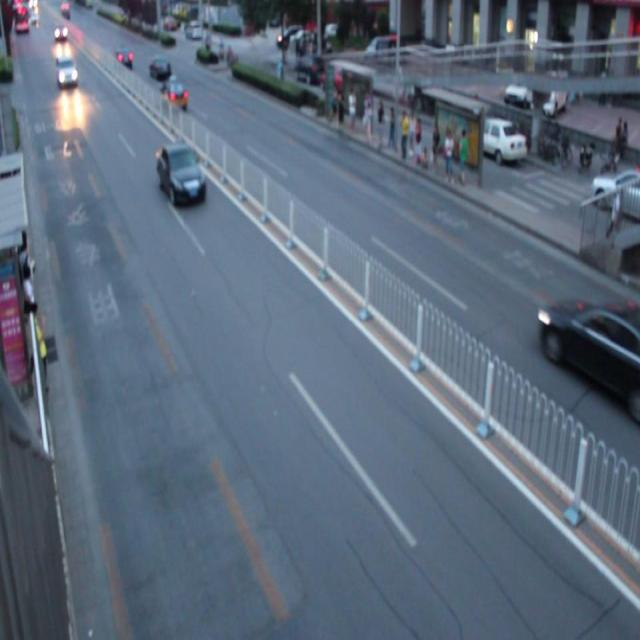car: (536, 289, 640, 418), (154, 142, 204, 206), (155, 77, 188, 113)
